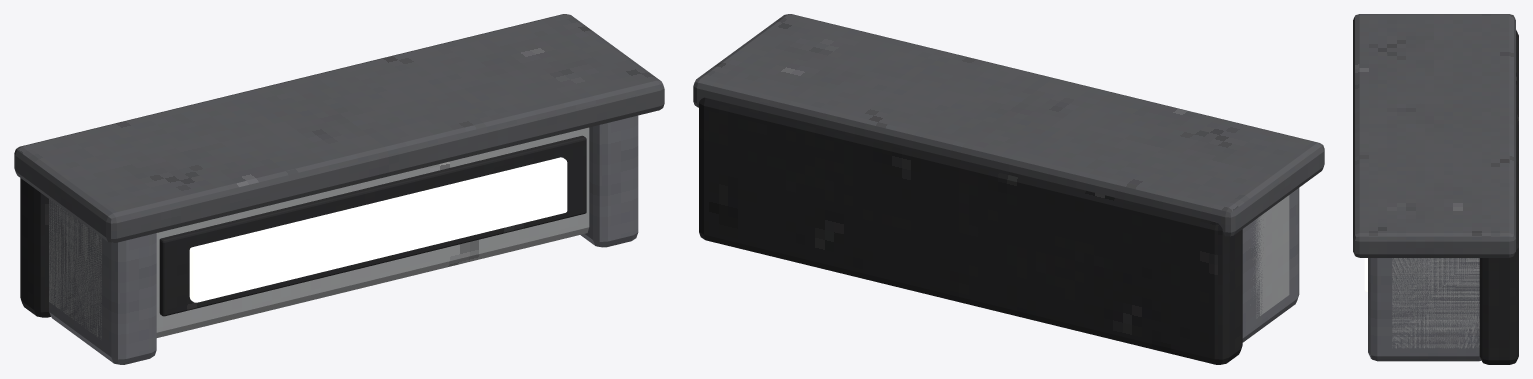
File: lbd_wall_light_v2.glb
3 renders of one model, left to right at view 1: azimuth 30°, elevation 25°; view 2: azimuth 150°, elevation 25°; view 3: azimuth 270°, elevation 25°, orthographic. The views are drawn at different scales.
Visible parts, largest first — view 1: wall_light_v2__brow_031, wall_light_v2__warm lens_028, wall_light_v2__body_022, wall_light_v2__recess_025, wall_light_v2__cap_034, wall_light_v2__cap_037, wall_light_v2__mount_003; view 2: wall_light_v2__mount_003, wall_light_v2__brow_031, wall_light_v2__cap_034, wall_light_v2__body_022; view 3: wall_light_v2__brow_031, wall_light_v2__cap_037, wall_light_v2__body_022, wall_light_v2__mount_003.
Boxes of the visible parts, x1,y1,x2,y2 form: wall_light_v2__brow_031: (14, 14, 664, 242); wall_light_v2__warm lens_028: (189, 157, 567, 302); wall_light_v2__body_022: (49, 127, 589, 339); wall_light_v2__recess_025: (159, 135, 586, 316); wall_light_v2__cap_034: (49, 199, 156, 364); wall_light_v2__cap_037: (581, 115, 638, 247); wall_light_v2__mount_003: (20, 178, 50, 317); wall_light_v2__mount_003: (699, 97, 1242, 364); wall_light_v2__brow_031: (693, 14, 1324, 236); wall_light_v2__cap_034: (1242, 188, 1299, 342); wall_light_v2__body_022: (1253, 195, 1289, 318); wall_light_v2__brow_031: (1353, 14, 1515, 257); wall_light_v2__cap_037: (1368, 258, 1481, 361); wall_light_v2__body_022: (1392, 258, 1479, 348); wall_light_v2__mount_003: (1479, 30, 1518, 364).
Size of the model in its own units: 0.88 by 0.2475 by 0.275.
5 materials, 4 textured.
